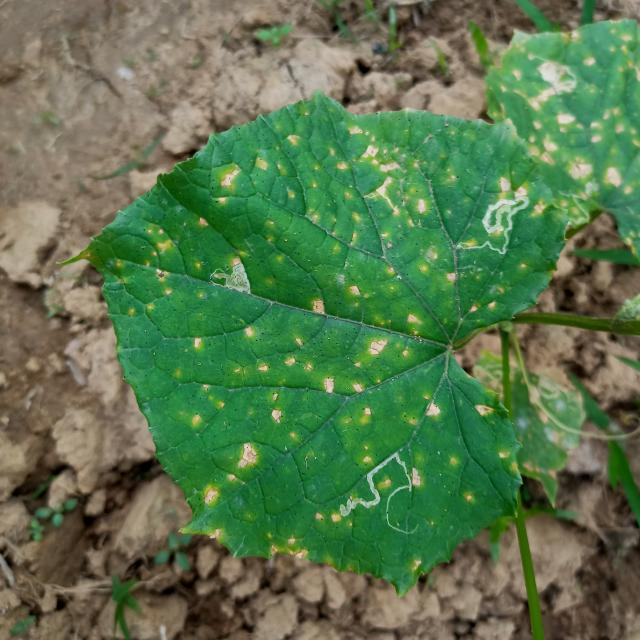disease_cucumber: (126, 123, 550, 545), (514, 48, 636, 184)
